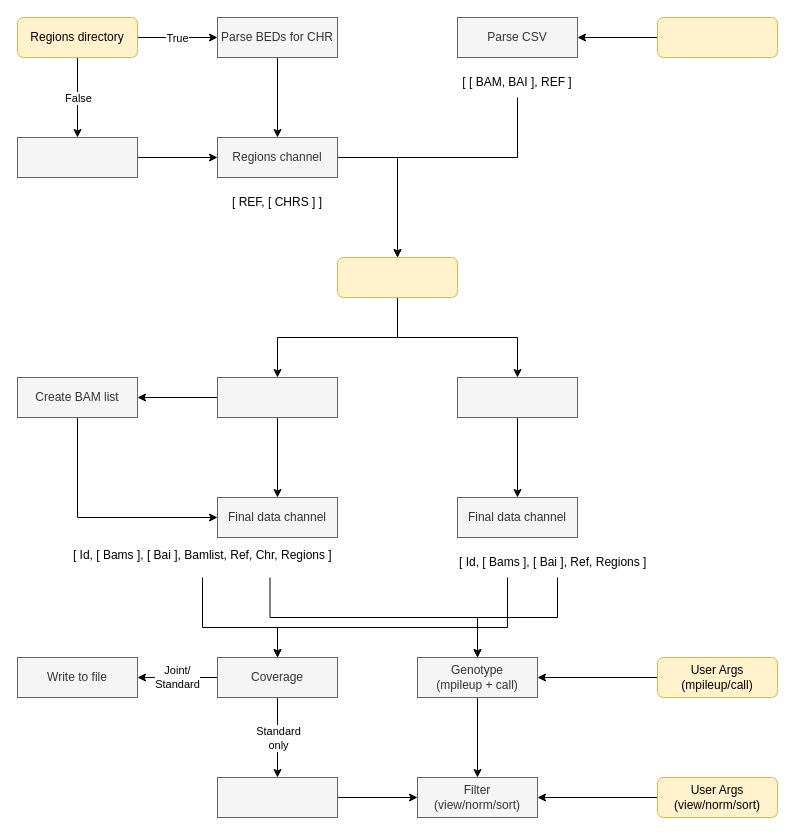
Some shapes in this 795 by 835 pixel diagram are drawn without their labels. Each missing label, with the centre of its shape:
DP used in filtering: the point at 277,797
Joint: the point at 277,397
Method: the point at 397,277
Regions set to Null: the point at 77,157
Sample-sheet: the point at 717,37
Standard: the point at 517,397
